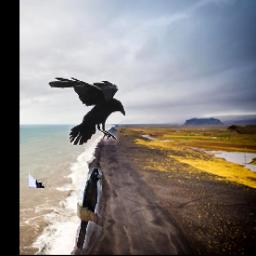Crow: (49, 76, 126, 145), (29, 104, 55, 188), (78, 169, 103, 250)
